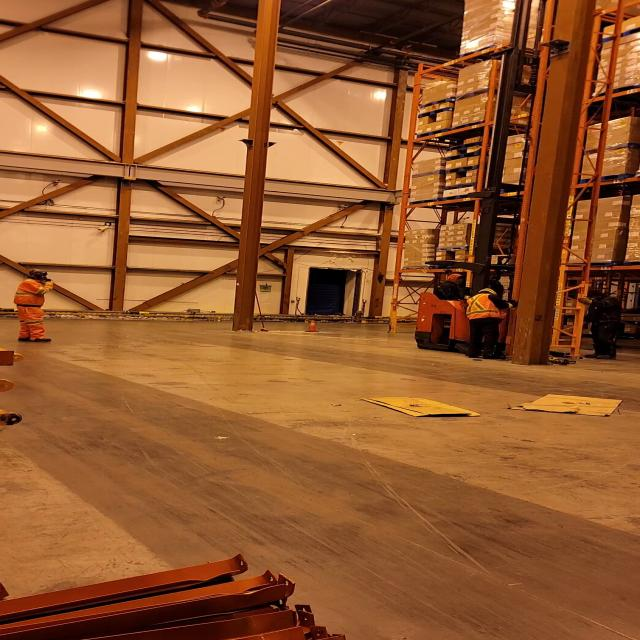forklift: (411, 183, 585, 370)
human: (456, 280, 509, 362), (8, 265, 60, 348), (574, 282, 624, 364), (427, 271, 470, 300)
objectofinterest: (511, 18, 596, 364), (500, 389, 626, 417), (359, 395, 482, 419)
